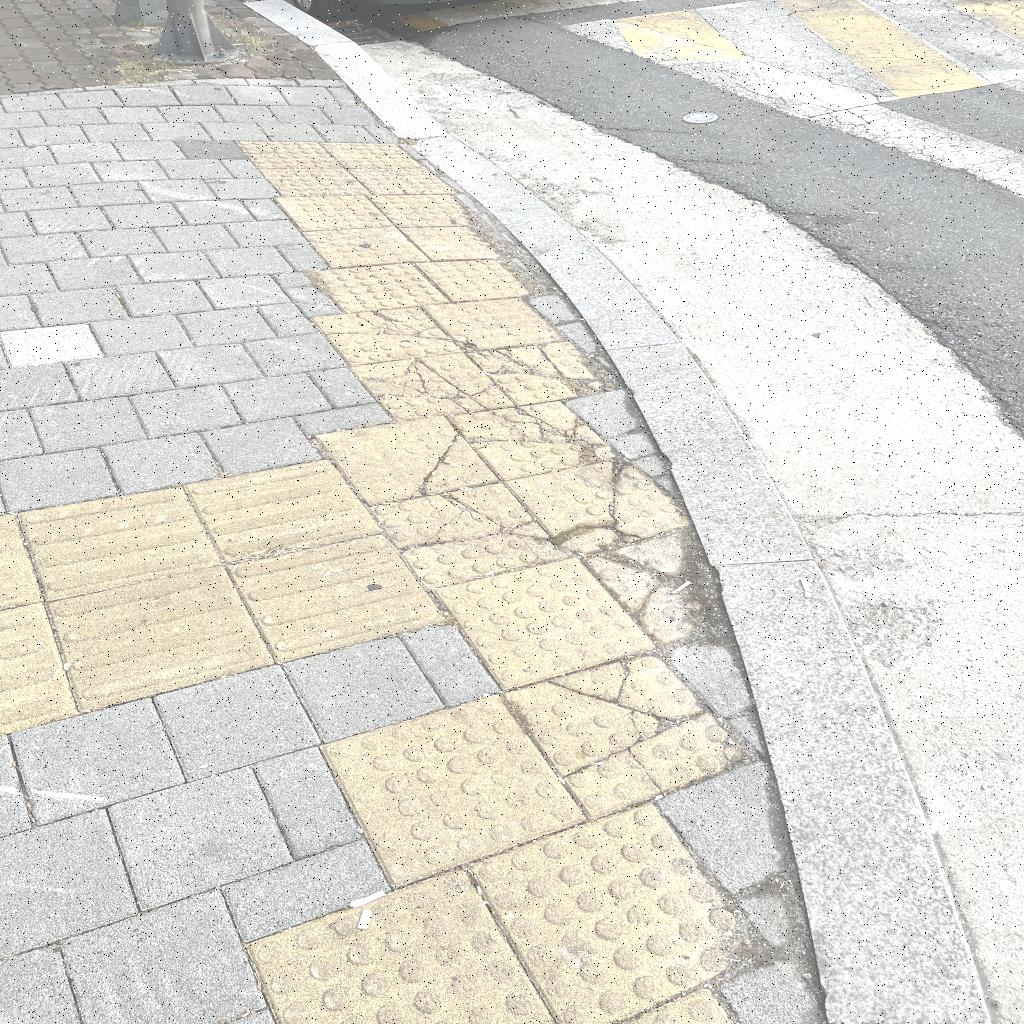Stop block broken: (507, 624, 750, 827), (508, 435, 691, 569), (372, 471, 562, 592), (318, 406, 497, 509), (451, 388, 620, 486), (469, 328, 621, 412), (352, 350, 512, 422), (313, 300, 461, 369)
Stop block normal: (434, 539, 655, 699), (304, 224, 428, 270)
